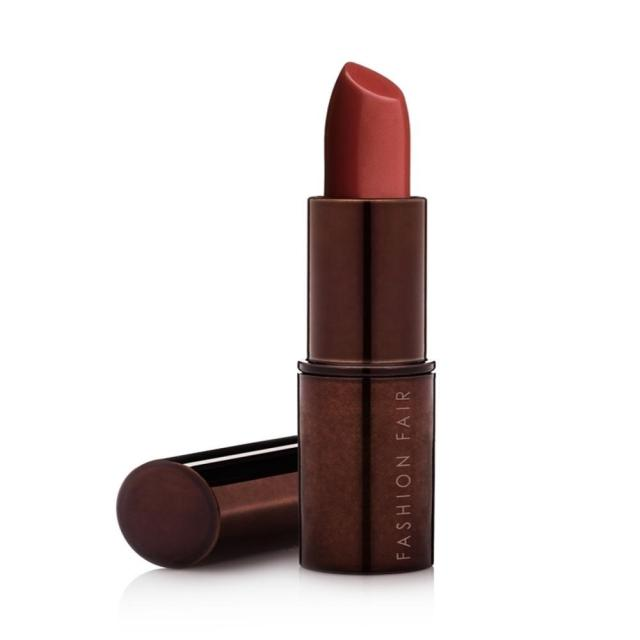lipstick: (295, 45, 441, 566)
